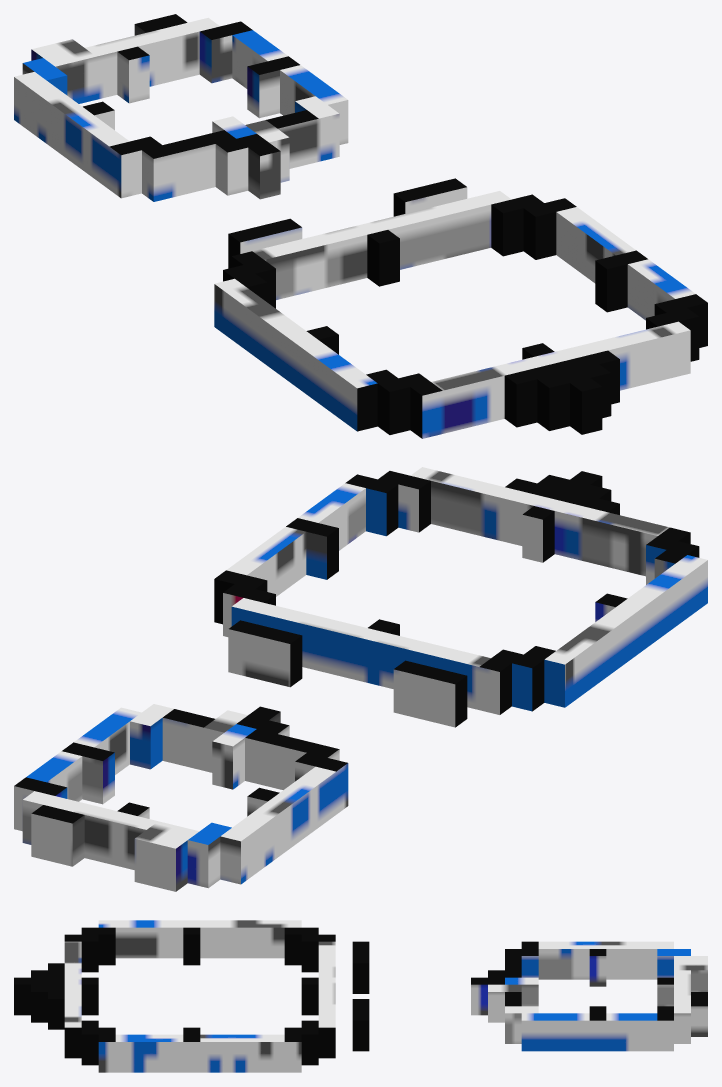
File: spaceships.dae
3 views of the same model, one above another, from view 1: azimuth 30°, elevation 25°; view 2: azimuth 150°, elevation 25°; view 3: azimuth 270°, elevation 25° (orthographic). The views are drawn at different scales.
Parts seen in each view (by area): view 1: SpaceShip_1, SpaceShip; view 2: SpaceShip_1, SpaceShip; view 3: SpaceShip_1, SpaceShip.
Part boxes in pixels (x1,y1,x2,y2): SpaceShip_1: (214, 178, 707, 438); SpaceShip: (14, 14, 348, 201); SpaceShip_1: (214, 467, 707, 727); SpaceShip: (14, 704, 348, 891); SpaceShip_1: (14, 920, 369, 1072); SpaceShip: (471, 941, 707, 1051).
Size of the model in its own units: 17 by 2 by 41.
